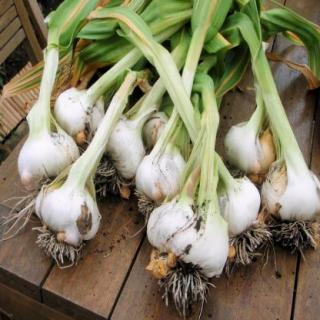Bawang Putih: (36, 181, 101, 247), (18, 133, 81, 193), (262, 166, 320, 226), (224, 123, 280, 177), (147, 202, 195, 253), (136, 157, 181, 206)
